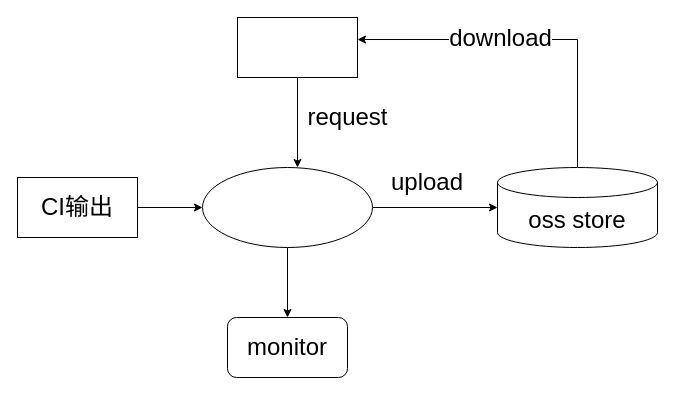
The diagram is 675 pixels wide and 395 high, and some of its shapes have lost their labels. The shapes that lost their labels are listed below. From the top down, each one's centre as x and y in pixels, then its label:
the point at 297,47: data analysis
the point at 287,207: 228 server
